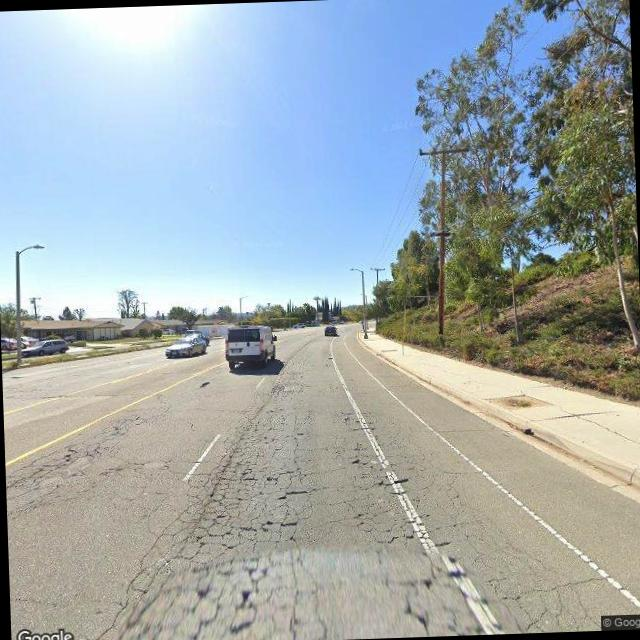crack: (23, 406, 590, 640), (2, 402, 168, 514)
